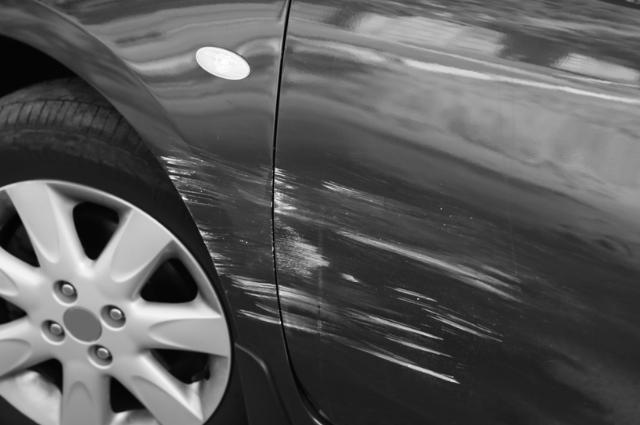Door: (273, 156, 556, 390)
Fender: (153, 129, 278, 354)
